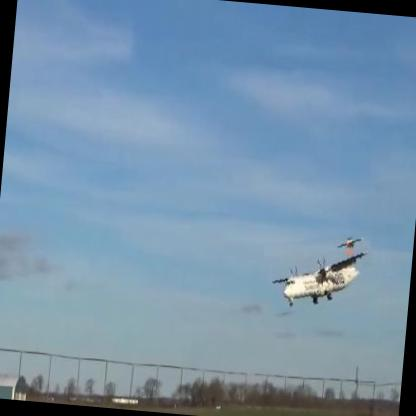plane: (262, 228, 382, 318)
